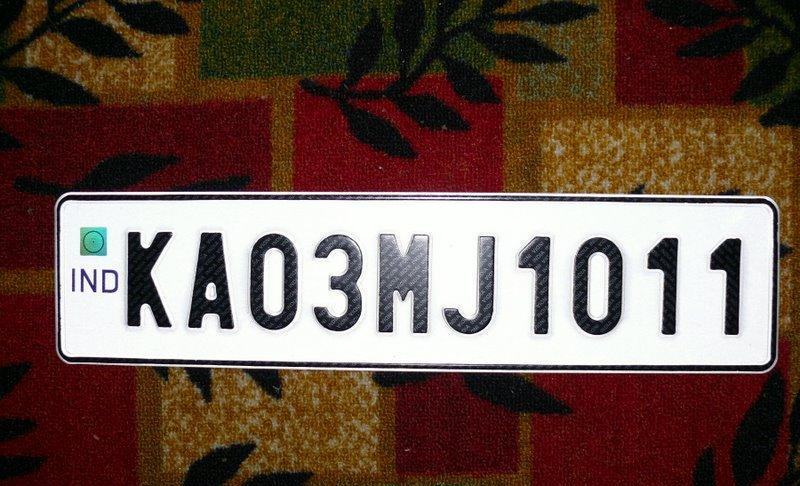licenseplate: (54, 187, 775, 376)
